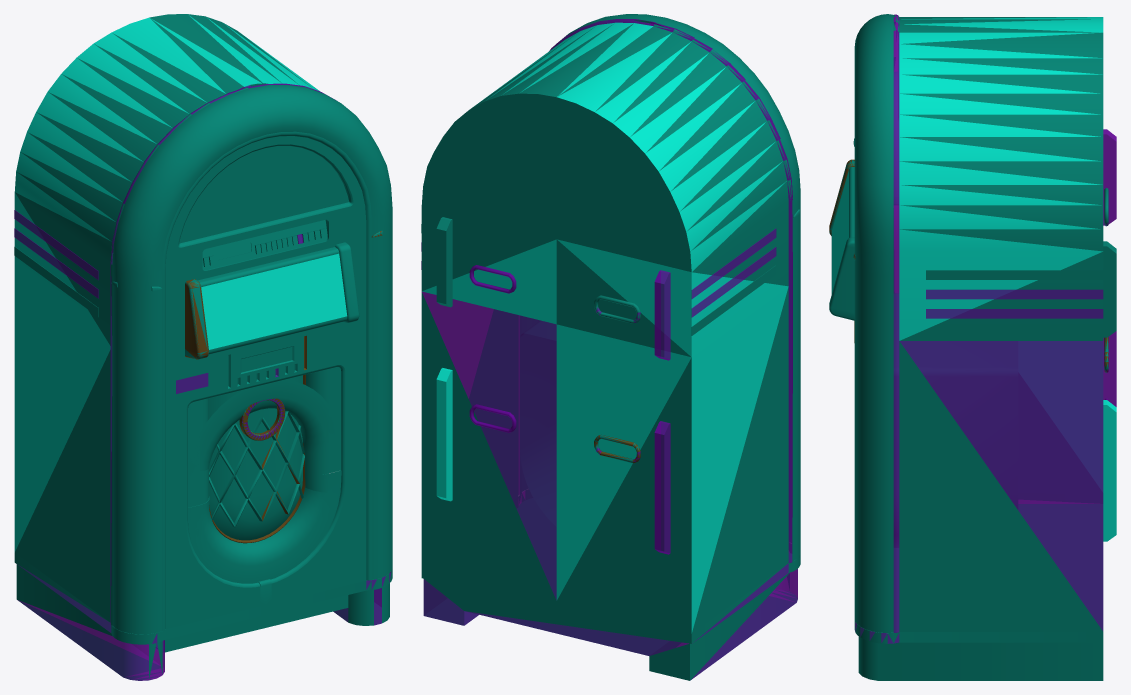
Rendered from jukeboxlowpoly.fbx.
3 renders of one model, left to right at view 1: azimuth 30°, elevation 25°; view 2: azimuth 150°, elevation 25°; view 3: azimuth 270°, elevation 25°, orthographic. The views are drawn at different scales.
Visible parts, largest first — view 1: polySurface99; view 2: polySurface99; view 3: polySurface99.
Boxes of the visible parts, x1,y1,x2,y2 form: polySurface99: (14,14,392,680); polySurface99: (421,14,800,680); polySurface99: (829,14,1116,680).
Bounding box in the file's own units: 52.85 × 102 × 45.37.
